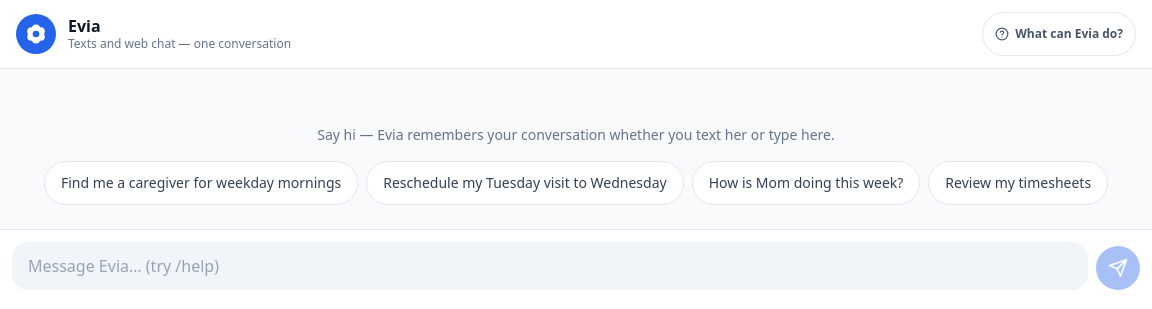
Test: CaraChat › empty-but-loaded thread shows the welcome state with suggestion chips
expect the text "Say hi" is shown: met, box x1=317 y1=125 x2=835 y2=144
Click the button "Find me a caregiver for weekday mornings" at {"x": 201, "y": 183}, box x1=44 y1=161 x2=358 y2=205
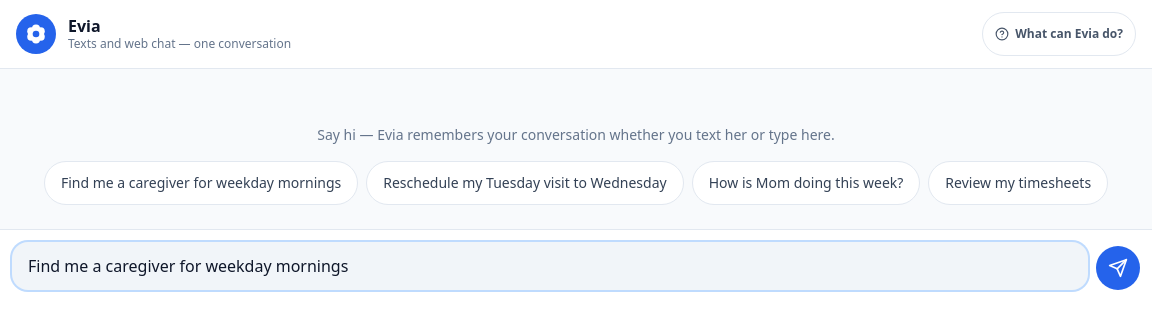
expect the text box named "Message Evia" holds "Find me a caregiver for weekday mornings": met, box x1=12 y1=242 x2=1088 y2=290
